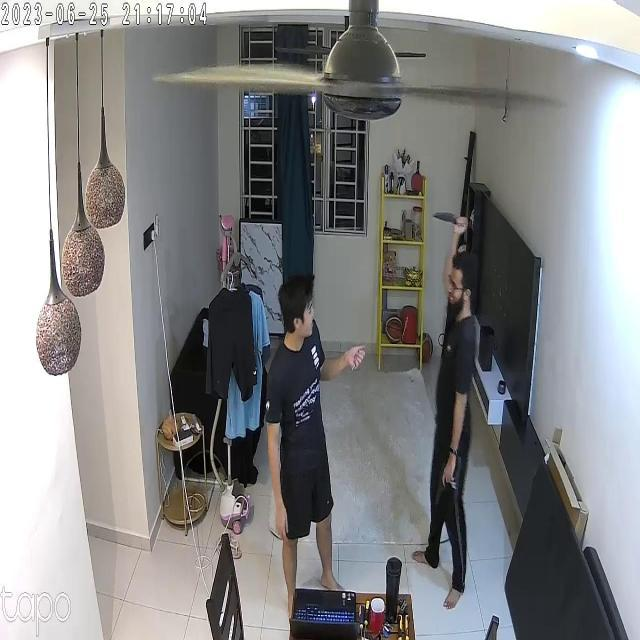Knife: (424, 195, 473, 235)
